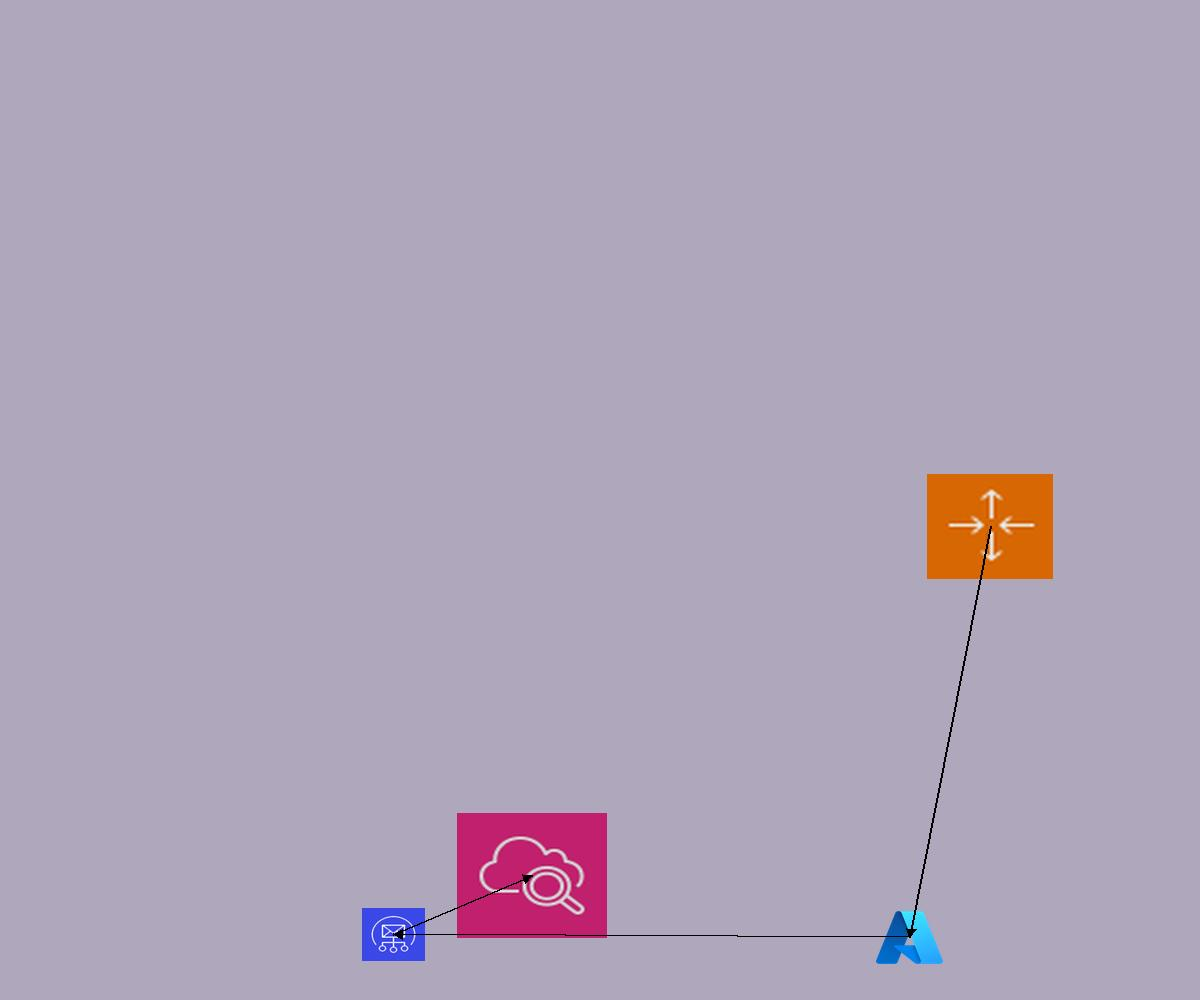AWS-CloudWatch: (457, 813, 607, 938)
AWS-Scaling-group: (927, 474, 1053, 579)
AWS-Simple-Email-Service: (362, 908, 425, 961)
Azure_services: (873, 907, 946, 968)
